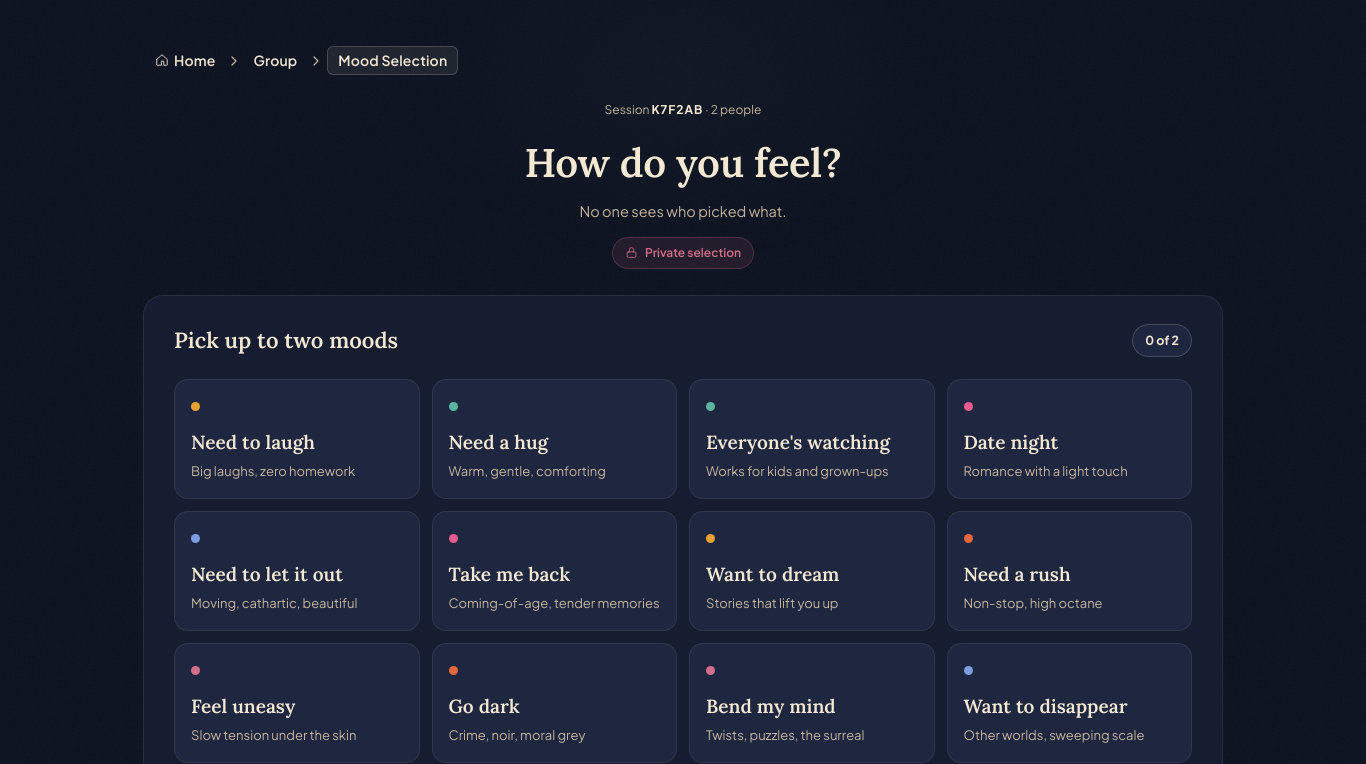
Test: Group mood page › doesn't let a status read from before a failed lock-in move the page to waiting
Check: the heading "How do you feel?" is shown, box [525,133,842,193]
Click the button "Need to laugh Big laughs, zero homework": (297, 439) [174,379,420,499]
(page scrolled)
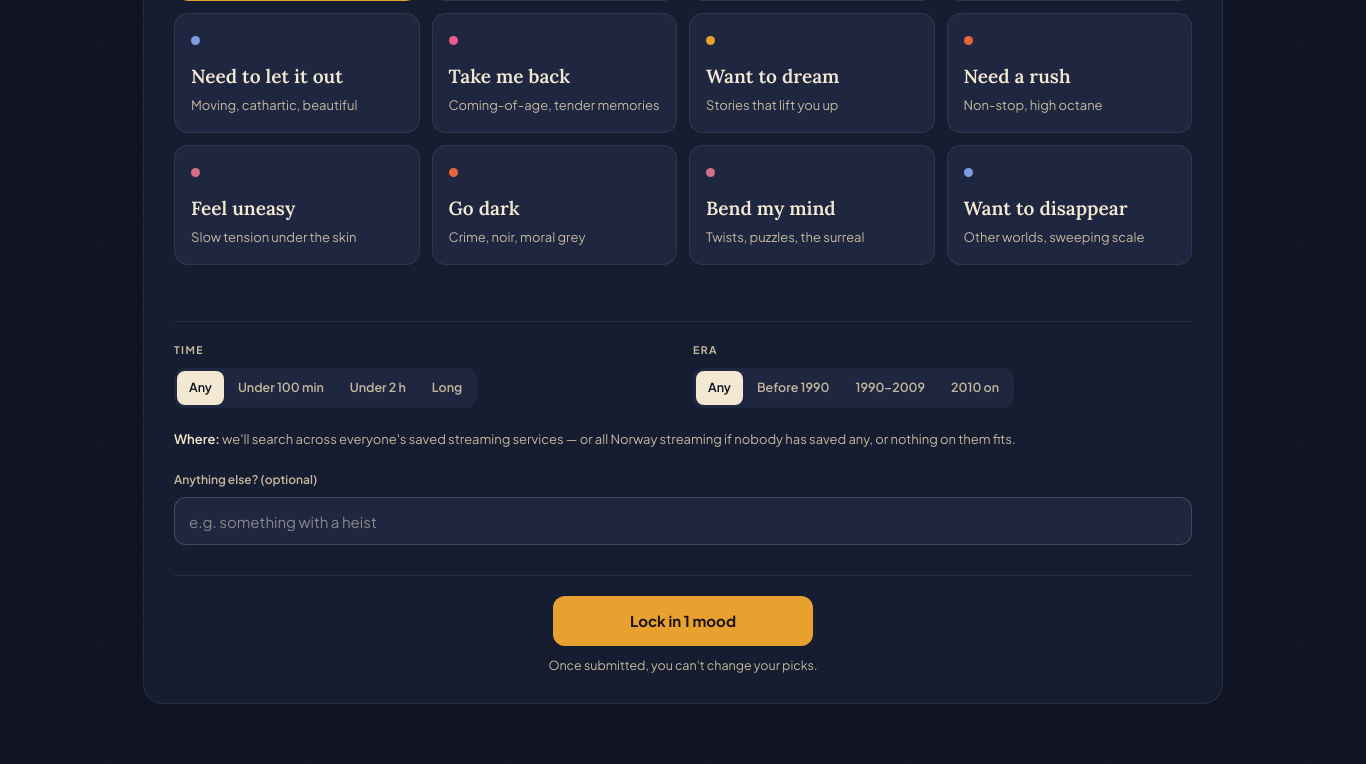
Click the button "Lock in 1 mood": (683, 621) [553,596,813,646]
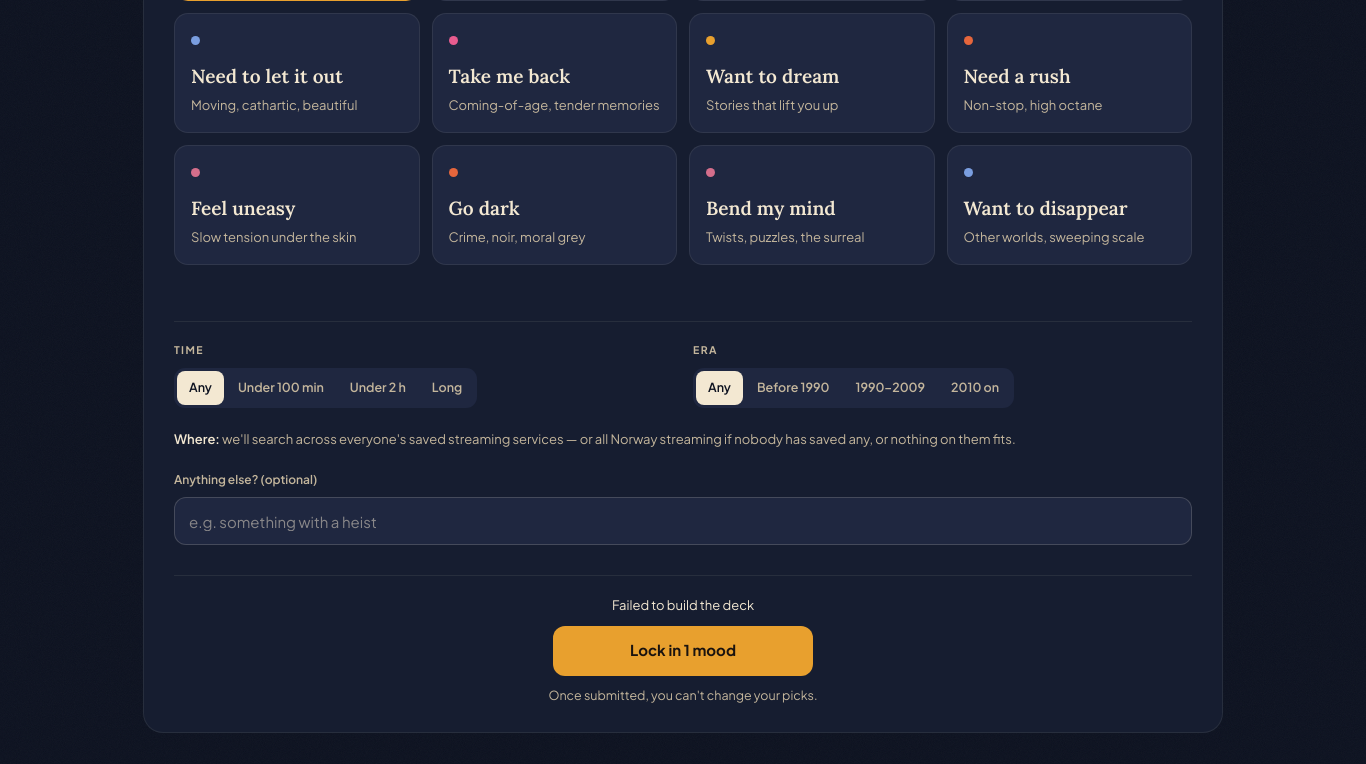
Check: the button "Lock in 1 mood" is shown, box [553,626,813,676]
Check: the message "Failed to build the deck" is shown, box [612,596,754,616]
